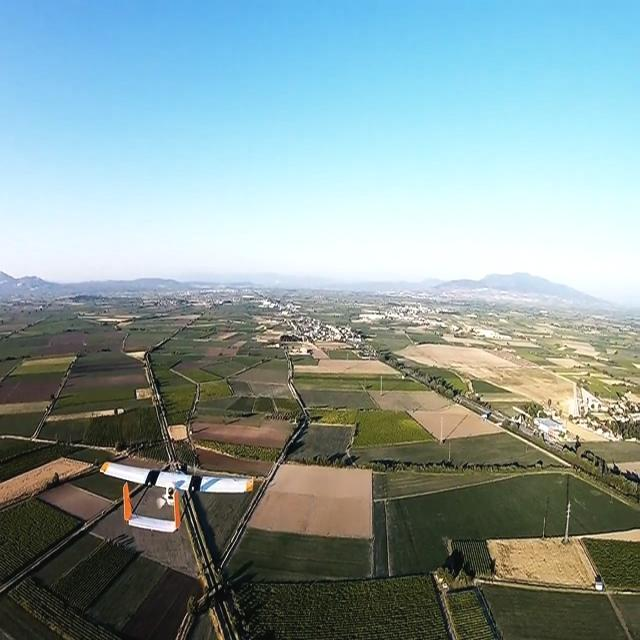iha: (97, 487, 258, 510)
